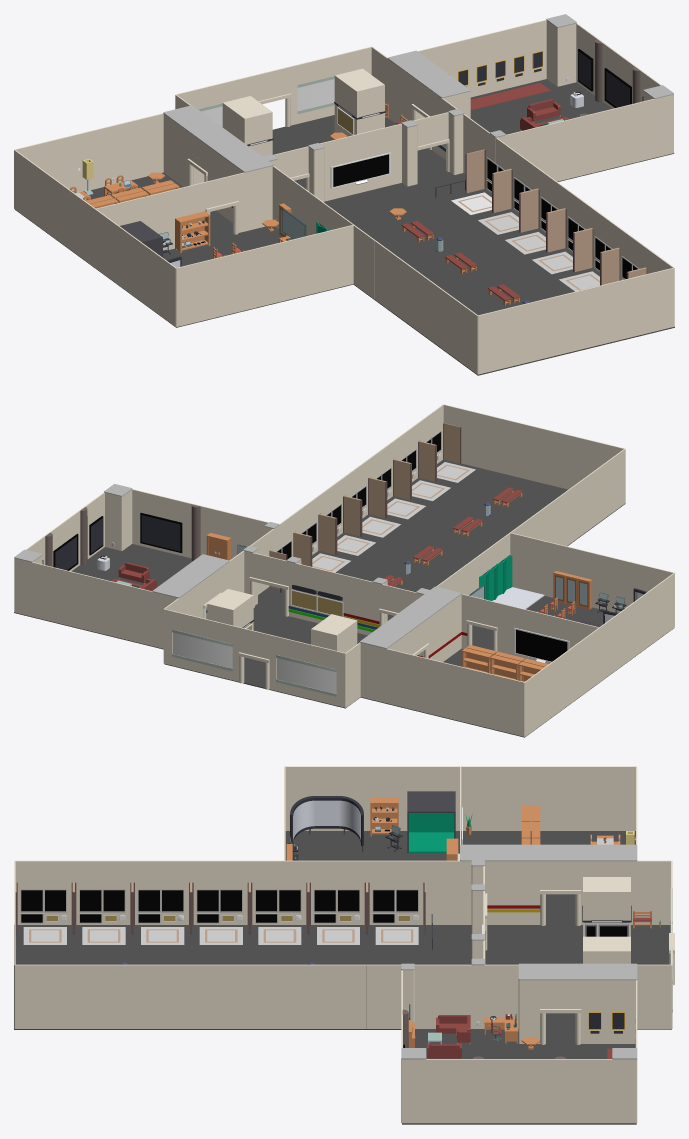
The model's file is Diorama_optimized.glb.
3 views of the same model, one above another, from view 1: azimuth 30°, elevation 25°; view 2: azimuth 150°, elevation 25°; view 3: azimuth 270°, elevation 25° (orthographic). The views are drawn at different scales.
Parts seen in each view (by area): view 1: mergedBlocks(Clone); view 2: mergedBlocks(Clone); view 3: mergedBlocks(Clone).
Boxes of the visible parts, <box> form: mergedBlocks(Clone): <box>14,14,674,375</box>; mergedBlocks(Clone): <box>14,404,674,737</box>; mergedBlocks(Clone): <box>14,766,674,1124</box>.
Bounding box in the file's own units: 59.16 × 6.48 × 56.37.
Materials: 1 (1 with a texture image).
